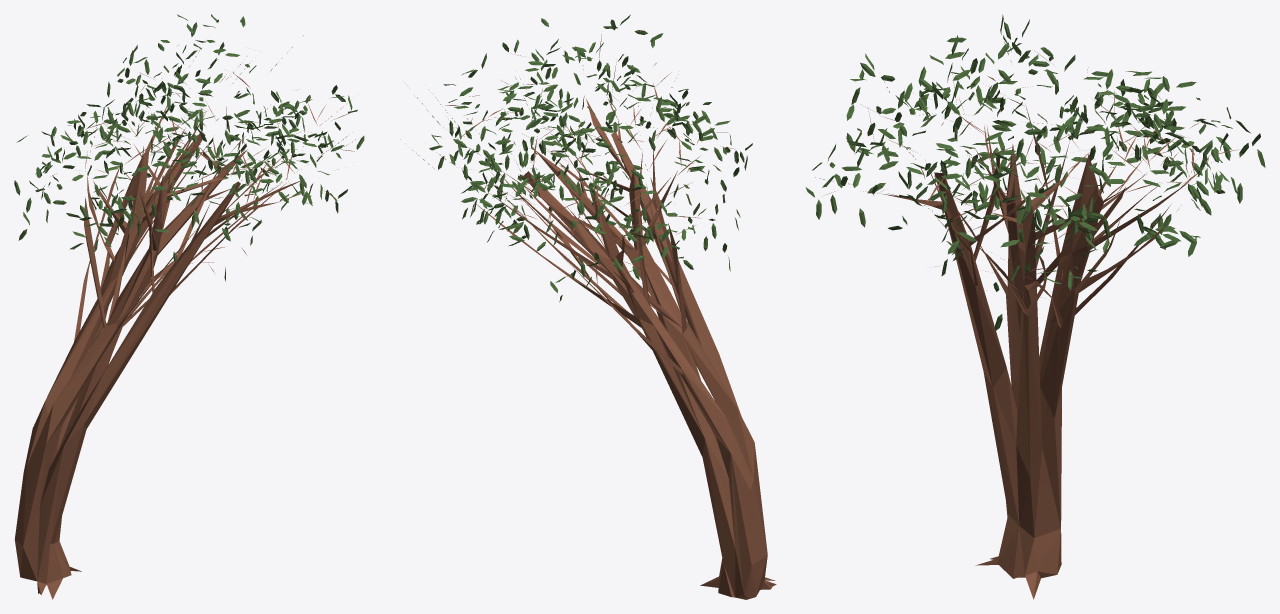
File: ArbousierCanopee_1_Niveau1.fbx
The picture shows the model from 3 angles, left to right: view 1: azimuth 30°, elevation 25°; view 2: azimuth 150°, elevation 25°; view 3: azimuth 270°, elevation 25°; orthographic projection. The views are drawn at different scales.
Parts seen in each view (by area): view 1: ArbousierCanopee_1_Niveau1; view 2: ArbousierCanopee_1_Niveau1; view 3: ArbousierCanopee_1_Niveau1.
Part boxes in pixels (box(x1,y1,x2,y2)): ArbousierCanopee_1_Niveau1: box(14, 14, 364, 599); ArbousierCanopee_1_Niveau1: box(400, 14, 776, 599); ArbousierCanopee_1_Niveau1: box(805, 14, 1265, 599).
Bounding box in the file's own units: 284 × 393 × 256.
